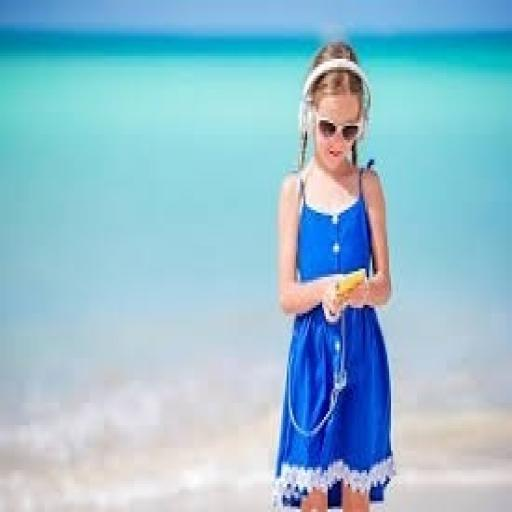listening_to_music: (270, 36, 397, 510)
